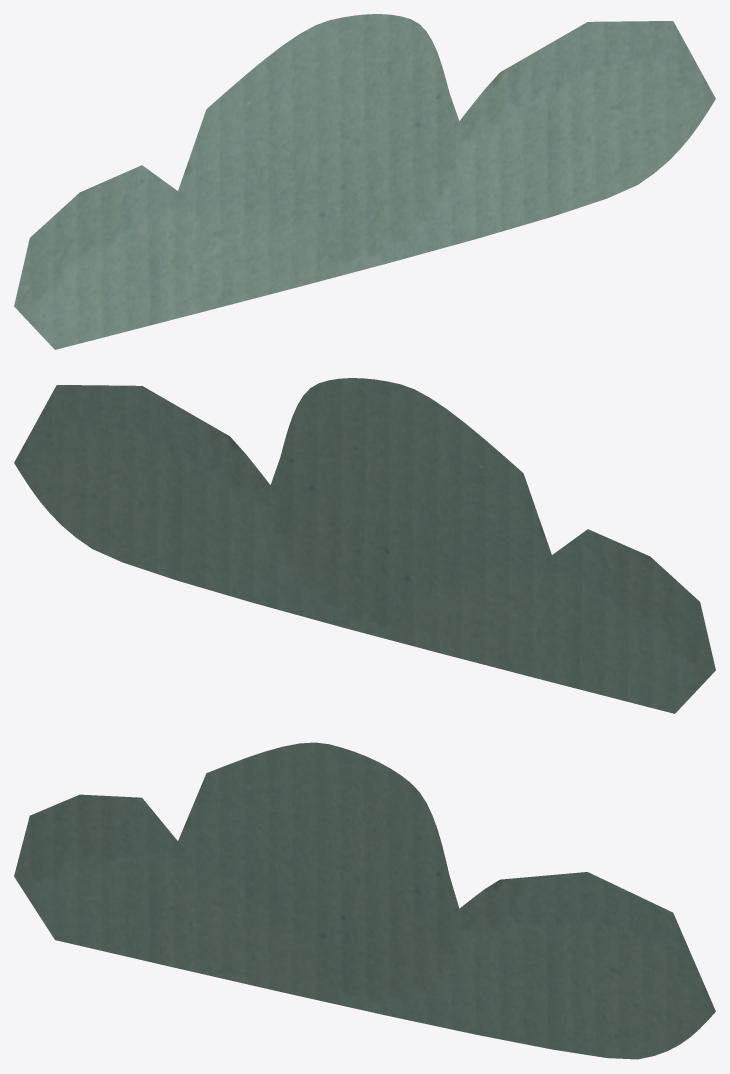
File: Clouds.FBX
3 renders of one model, top to bottom at view 1: azimuth 30°, elevation 25°; view 2: azimuth 150°, elevation 25°; view 3: azimuth 330°, elevation 25°, orthographic.
Visible parts, largest first — view 1: Line001; view 2: Line001; view 3: Line001.
Boxes of the visible parts, left/top/right/bottom form: Line001: left=14, top=14, right=715, bottom=349; Line001: left=14, top=378, right=715, bottom=713; Line001: left=14, top=742, right=715, bottom=1059.
Size of the model in its own units: 21.65 by 7.74 by 3.38e-07.
1 material, 1 textured.
